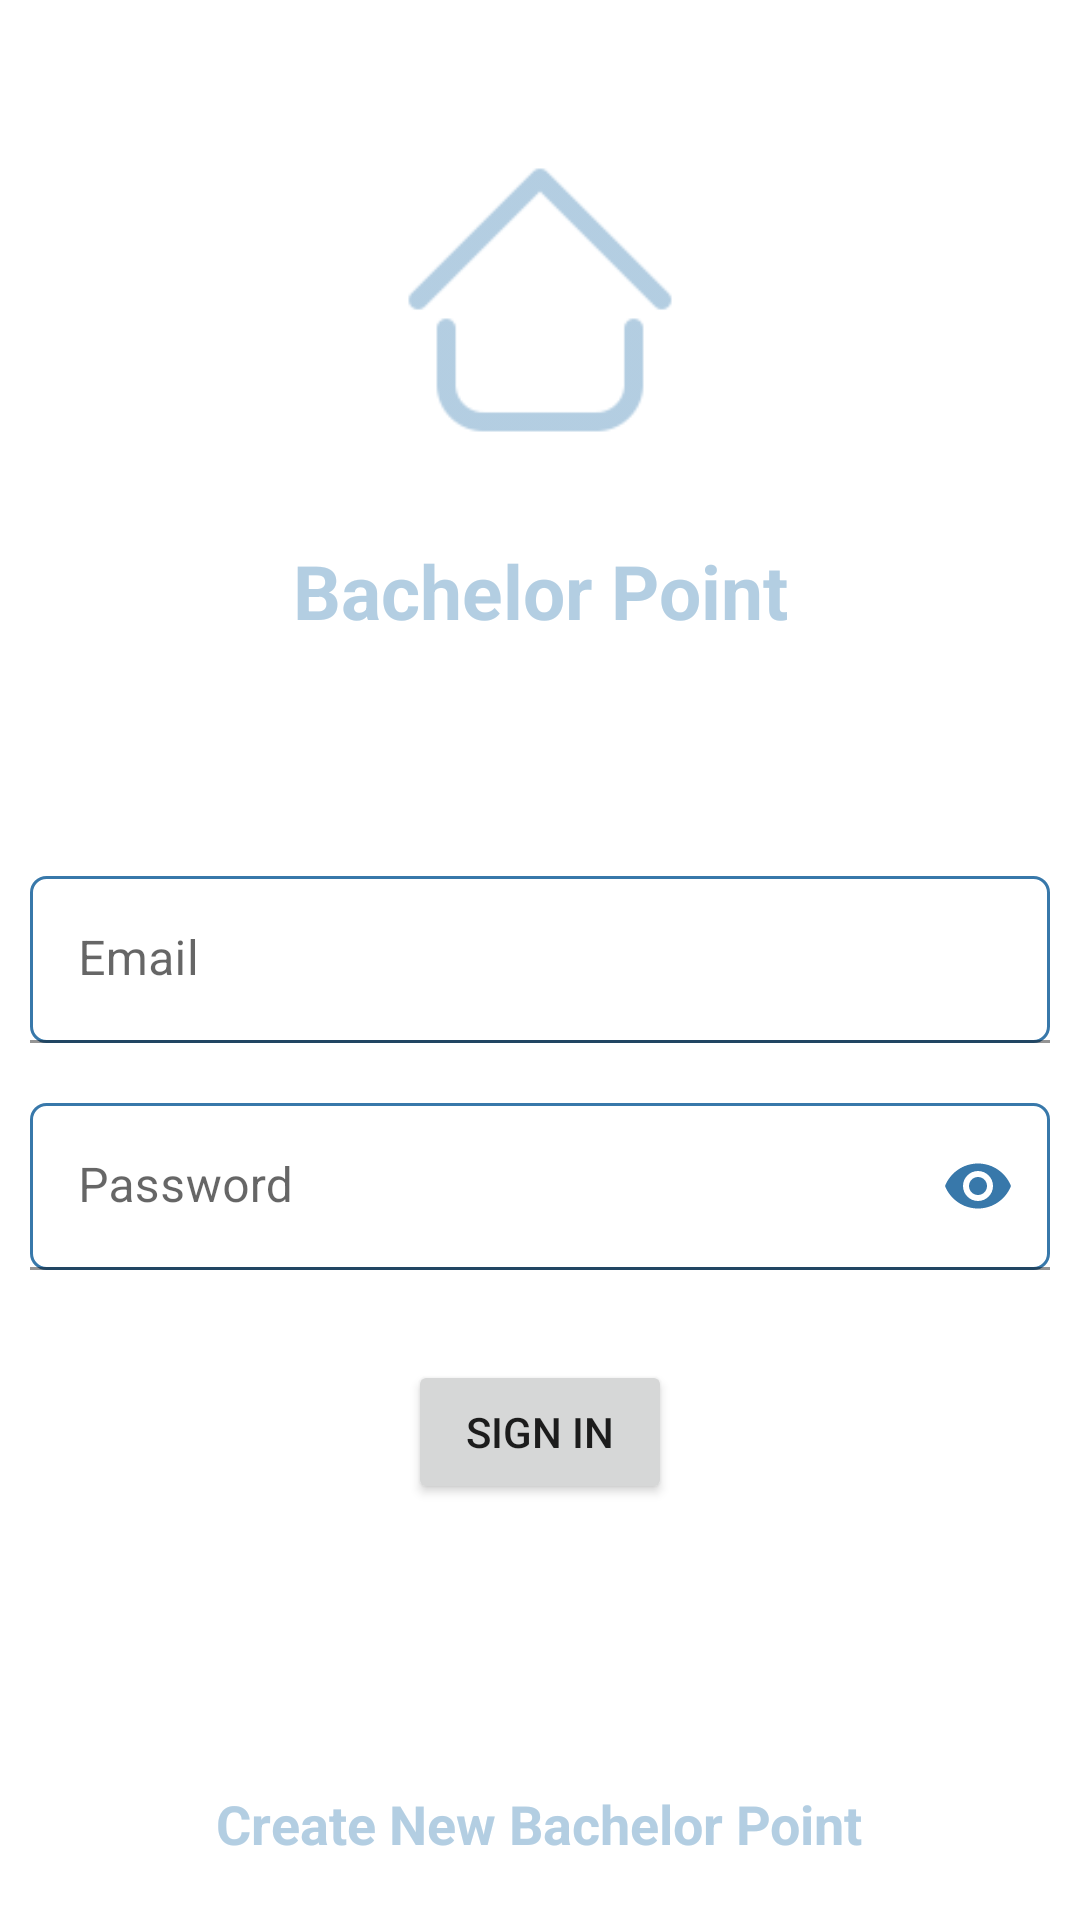

Icons on this 1080×1920 Android screen, each with the point to tap as point (x, y):
home: point (540, 300)
